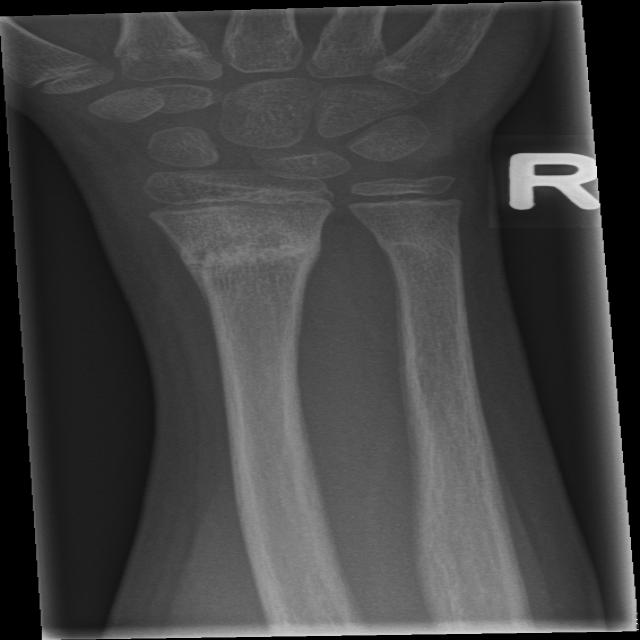radius fracture: (163, 218, 341, 313)
